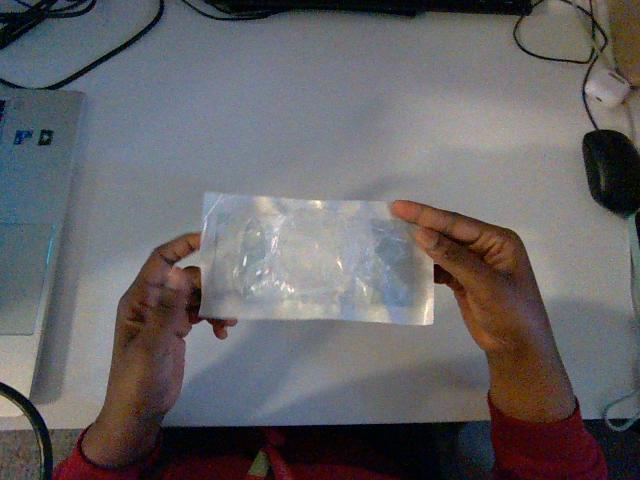gallipot: (199, 193, 433, 324)
